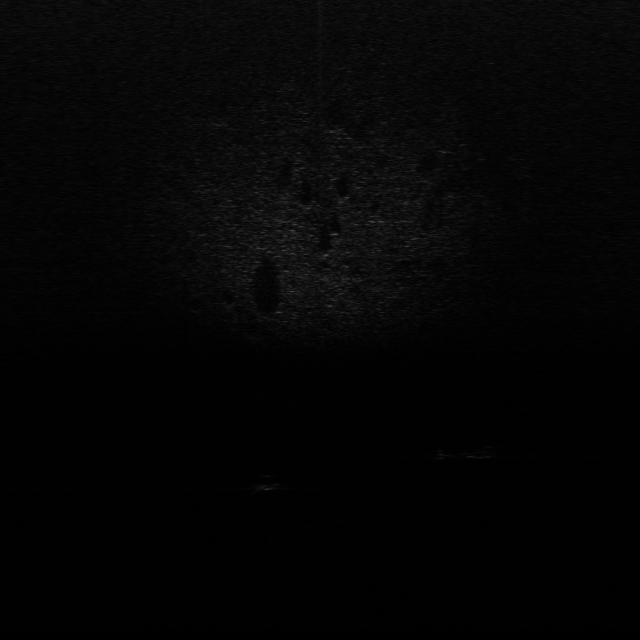ball: (250, 472, 280, 493)
human body: (433, 443, 532, 462)
